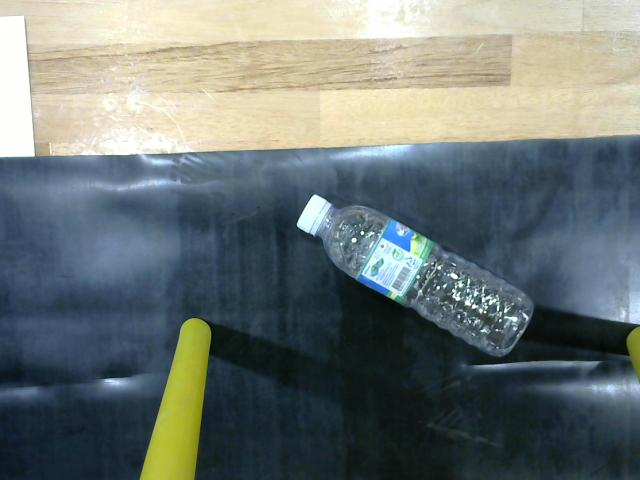bottle: (291, 185, 548, 371)
